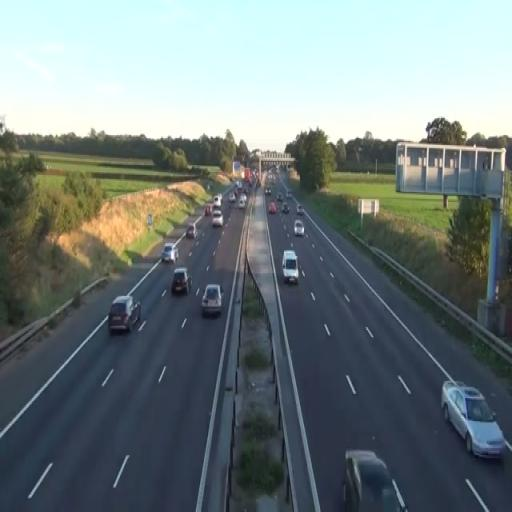Car: (440, 379, 506, 460), (344, 449, 408, 512), (108, 294, 141, 334), (201, 284, 224, 316), (170, 267, 192, 296), (282, 250, 299, 284), (160, 242, 179, 264), (294, 219, 304, 238), (186, 223, 196, 239)
